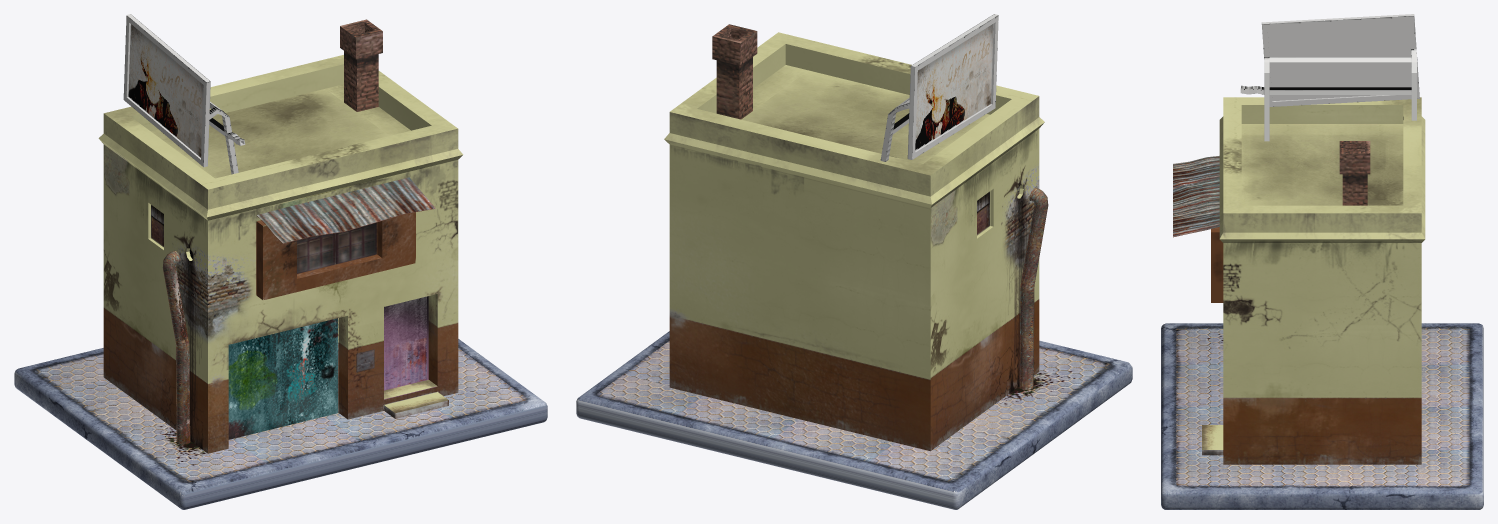
Rendered from fachada low poly.fbx.
3 views of the same model, side by side, from view 1: azimuth 30°, elevation 25°; view 2: azimuth 150°, elevation 25°; view 3: azimuth 270°, elevation 25° (orthographic). The views are drawn at different scales.
Visible parts, largest first — view 1: casa, vereda; view 2: casa, vereda; view 3: casa, vereda.
Part boxes in pixels (x1=…): casa: x1=98, y1=14, x2=463, y2=453; vereda: x1=14, y1=339, x2=547, y2=509; casa: x1=664, y1=14, x2=1048, y2=451; vereda: x1=576, y1=331, x2=1132, y2=509; casa: x1=1173, y1=14, x2=1425, y2=464; vereda: x1=1161, y1=323, x2=1483, y2=509.
Size of the model in its own units: 132 by 131 by 106.
2 materials, 2 textured.
